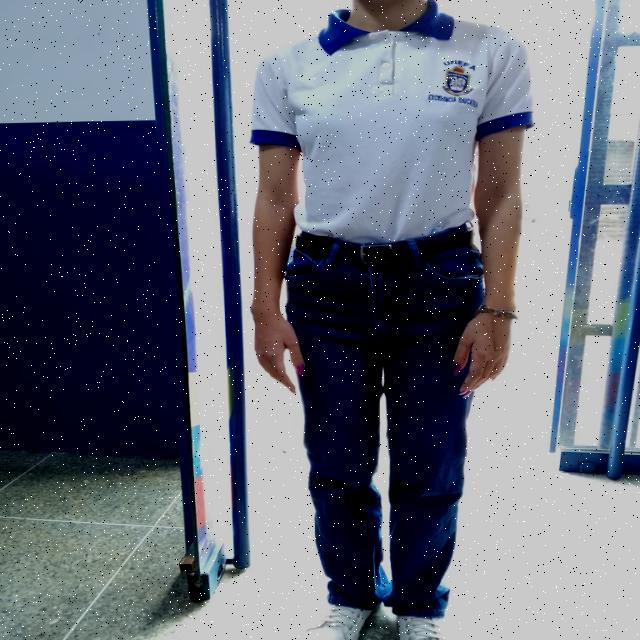pantalon_oscuro: (283, 241, 488, 618)
uniforme_superior: (248, 0, 536, 242)
